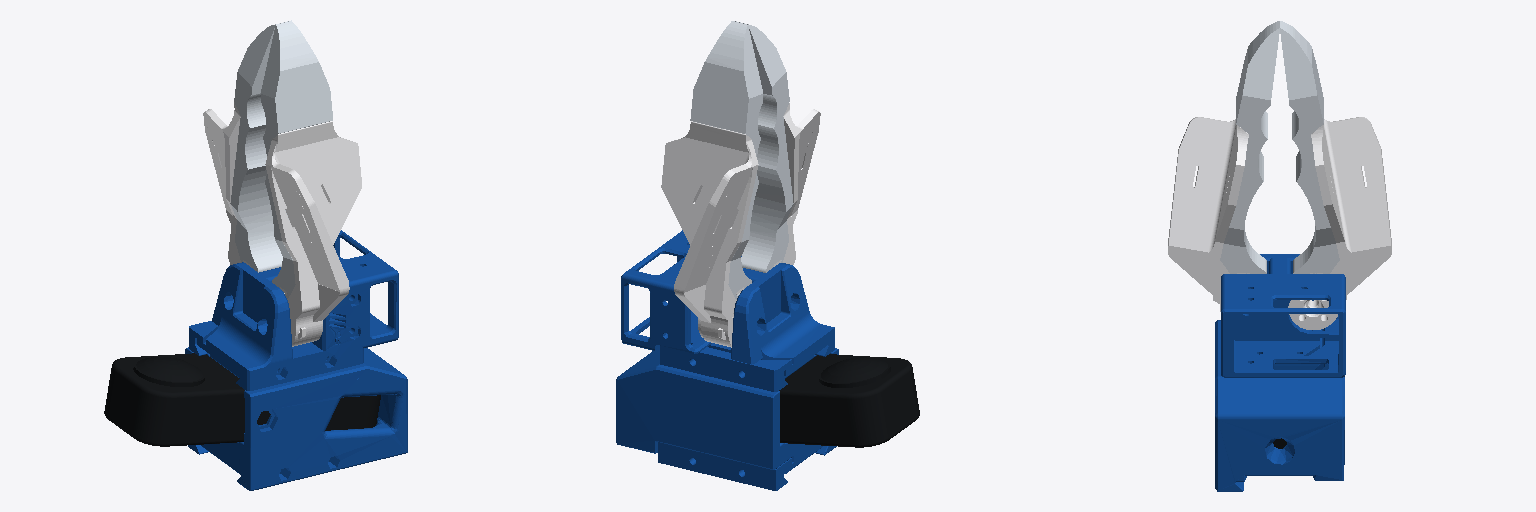
URDF robot description (pg_chopstick_iso50):
<?xml version="1.0"?>
<!-- PG Chopstick, generated by chopstick/cad/urdf.py. Units: m, rad. -->
<robot name="pg_chopstick_iso50">
  <material name="pg_blue"><color rgba="0.12 0.37 0.68 1"/></material>
  <material name="pg_white"><color rgba="0.96 0.96 0.97 1"/></material>
  <material name="tpu"><color rgba="0.87 0.9 0.93 1"/></material>
  <material name="camera"><color rgba="0.11 0.12 0.13 1"/></material>
  <link name="chopstick_flange"/>
  <link name="chopstick_base">
    <visual name="chopstick_base_sa"><origin xyz="0 0 0" rpy="0 0 0"/><geometry><mesh filename="meshes/chopstick_base_sa.stl" scale="0.001 0.001 0.001"/></geometry><material name="pg_blue"/></visual>
    <collision name="chopstick_base_sa"><origin xyz="0 0 0" rpy="0 0 0"/><geometry><mesh filename="meshes/chopstick_base_sa.stl" scale="0.001 0.001 0.001"/></geometry></collision>
    <visual name="chopstick_clip_sa"><origin xyz="0 0 0" rpy="0 0 0"/><geometry><mesh filename="meshes/chopstick_clip_sa.stl" scale="0.001 0.001 0.001"/></geometry><material name="pg_blue"/></visual>
    <collision name="chopstick_clip_sa"><origin xyz="0 0 0" rpy="0 0 0"/><geometry><mesh filename="meshes/chopstick_clip_sa.stl" scale="0.001 0.001 0.001"/></geometry></collision>
    <visual name="x5_frame"><origin xyz="0 0 0" rpy="0 0 0"/><geometry><mesh filename="meshes/x5_frame.stl" scale="0.001 0.001 0.001"/></geometry><material name="pg_blue"/></visual>
    <collision name="x5_frame"><origin xyz="0 0 0" rpy="0 0 0"/><geometry><mesh filename="meshes/x5_frame.stl" scale="0.001 0.001 0.001"/></geometry></collision>
    <visual name="x5_clip_b"><origin xyz="0 0 0" rpy="0 0 0"/><geometry><mesh filename="meshes/x5_clip_b.stl" scale="0.001 0.001 0.001"/></geometry><material name="pg_blue"/></visual>
    <collision name="x5_clip_b"><origin xyz="0 0 0" rpy="0 0 0"/><geometry><mesh filename="meshes/x5_clip_b.stl" scale="0.001 0.001 0.001"/></geometry></collision>
    <visual name="iso_flange_plate"><origin xyz="0 0 0" rpy="0 0 0"/><geometry><mesh filename="meshes/iso_flange_plate.stl" scale="0.001 0.001 0.001"/></geometry><material name="pg_blue"/></visual>
    <collision name="iso_flange_plate"><origin xyz="0 0 0" rpy="0 0 0"/><geometry><mesh filename="meshes/iso_flange_plate.stl" scale="0.001 0.001 0.001"/></geometry></collision>
    <visual name="insta360_x5_envelope"><origin xyz="0 0 0" rpy="0 0 0"/><geometry><mesh filename="meshes/insta360_x5_envelope.stl" scale="0.001 0.001 0.001"/></geometry><material name="camera"/></visual>
    <collision name="insta360_x5_envelope"><origin xyz="0 0 0" rpy="0 0 0"/><geometry><mesh filename="meshes/insta360_x5_envelope.stl" scale="0.001 0.001 0.001"/></geometry></collision>
    <visual name="servo_envelope"><origin xyz="0 0 0" rpy="0 0 0"/><geometry><mesh filename="meshes/servo_envelope.stl" scale="0.001 0.001 0.001"/></geometry><material name="camera"/></visual>
    <collision name="servo_envelope"><origin xyz="0 0 0" rpy="0 0 0"/><geometry><mesh filename="meshes/servo_envelope.stl" scale="0.001 0.001 0.001"/></geometry></collision>
    <inertial><origin xyz="0.0387194 0.000847005 -0.00378252" rpy="0 0 0"/><mass value="0.48845"/><inertia ixx="0.0006297" ixy="-1.212e-05" ixz="0.0001256" iyy="0.0008389" iyz="1.222e-05" izz="0.0004162"/></inertial>
  </link>
  <link name="chopstick_jaw_left">
    <visual name="jaw_left_sa"><origin xyz="0 0 0" rpy="0 0 0"/><geometry><mesh filename="meshes/jaw_left_sa_jawframe.stl" scale="0.001 0.001 0.001"/></geometry><material name="pg_white"/></visual>
    <collision name="jaw_left_sa"><origin xyz="0 0 0" rpy="0 0 0"/><geometry><mesh filename="meshes/jaw_left_sa_jawframe.stl" scale="0.001 0.001 0.001"/></geometry></collision>
    <visual name="tip_tpu_left"><origin xyz="0 0 0" rpy="0 0 0"/><geometry><mesh filename="meshes/tip_tpu_left_jawframe.stl" scale="0.001 0.001 0.001"/></geometry><material name="tpu"/></visual>
    <collision name="tip_tpu_left"><origin xyz="0 0 0" rpy="0 0 0"/><geometry><mesh filename="meshes/tip_tpu_left_jawframe.stl" scale="0.001 0.001 0.001"/></geometry></collision>
    <inertial><origin xyz="0.0644882 0.00198443 -0.00308682" rpy="0 0 0"/><mass value="0.049091"/><inertia ixx="6.696e-06" ixy="7.42e-06" ixz="8.384e-07" iyy="6.992e-05" iyz="-4.065e-07" izz="7.082e-05"/></inertial>
  </link>
  <link name="chopstick_tip_left"/>
  <link name="chopstick_jaw_right">
    <visual name="jaw_right"><origin xyz="0 0 0" rpy="0 0 0"/><geometry><mesh filename="meshes/jaw_right_jawframe.stl" scale="0.001 0.001 0.001"/></geometry><material name="pg_white"/></visual>
    <collision name="jaw_right"><origin xyz="0 0 0" rpy="0 0 0"/><geometry><mesh filename="meshes/jaw_right_jawframe.stl" scale="0.001 0.001 0.001"/></geometry></collision>
    <visual name="tip_tpu_right"><origin xyz="0 0 0" rpy="0 0 0"/><geometry><mesh filename="meshes/tip_tpu_right_jawframe.stl" scale="0.001 0.001 0.001"/></geometry><material name="tpu"/></visual>
    <collision name="tip_tpu_right"><origin xyz="0 0 0" rpy="0 0 0"/><geometry><mesh filename="meshes/tip_tpu_right_jawframe.stl" scale="0.001 0.001 0.001"/></geometry></collision>
    <inertial><origin xyz="0.0648709 -0.00196465 -0.00300603" rpy="0 0 0"/><mass value="0.048723"/><inertia ixx="6.645e-06" ixy="-7.43e-06" ixz="1.141e-06" iyy="6.876e-05" iyz="3.844e-07" izz="6.963e-05"/></inertial>
  </link>
  <link name="chopstick_tip_right"/>
  <link name="chopstick_camera"/>
  <link name="chopstick_tcp"/>
  <joint name="chopstick_mount_joint" type="fixed"><parent link="chopstick_flange"/><child link="chopstick_base"/><origin xyz="0 0 0.016" rpy="0 -1.57079633 0"/></joint>
  <joint name="chopstick_jaw" type="revolute">
    <parent link="chopstick_base"/><child link="chopstick_jaw_left"/>
    <origin xyz="0.06733 0.015 0" rpy="0 0 0"/><axis xyz="0 0 1"/>
    <limit lower="0.00000" upper="1.25664" effort="4" velocity="6"/>
  </joint>
  <joint name="chopstick_tip_left_joint" type="fixed"><parent link="chopstick_jaw_left"/><child link="chopstick_tip_left"/><origin xyz="0.137417 -0.015085 -0.003671" rpy="0 0 0"/></joint>
  <joint name="chopstick_jaw_right" type="revolute">
    <parent link="chopstick_base"/><child link="chopstick_jaw_right"/>
    <origin xyz="0.06733 -0.015 0" rpy="0 0 0"/><axis xyz="0 0 1"/>
    <limit lower="-1.25664" upper="0.00000" effort="4" velocity="6"/>
    <mimic joint="chopstick_jaw" multiplier="-1" offset="0"/>
  </joint>
  <joint name="chopstick_tip_right_joint" type="fixed"><parent link="chopstick_jaw_right"/><child link="chopstick_tip_right"/><origin xyz="0.137417 0.015085 -0.003671" rpy="0 0 0"/></joint>
  <joint name="chopstick_camera_joint" type="fixed"><parent link="chopstick_base"/><child link="chopstick_camera"/><origin xyz="0.034420877 0 0.057" rpy="0 0.174532726 0"/></joint>
  <joint name="chopstick_tcp_joint" type="fixed"><parent link="chopstick_base"/><child link="chopstick_tcp"/><origin xyz="0.204747 0 -0.003671" rpy="0 0 0"/></joint>
</robot>

--- What the picture shows (computed from the rendered views, not written in the file) ---
3 views of the same robot in one strip: view 1: azimuth 30°, elevation 25°; view 2: azimuth 150°, elevation 25°; view 3: azimuth 270°, elevation 25° (orthographic).
Model pg_chopstick_iso50 with 8 links and 7 joints (2 revolute, 5 fixed), rooted at chopstick_flange, posed all joints at 0.
Links seen in each view (by area): view 1: chopstick_base, chopstick_jaw_right, chopstick_jaw_left; view 2: chopstick_base, chopstick_jaw_left, chopstick_jaw_right; view 3: chopstick_base, chopstick_jaw_left, chopstick_jaw_right.
Link boxes in pixels (x1,y1,x2,y2): chopstick_base: [104, 230, 407, 490]; chopstick_jaw_right: [261, 20, 361, 346]; chopstick_jaw_left: [203, 21, 288, 272]; chopstick_base: [616, 230, 919, 490]; chopstick_jaw_left: [661, 21, 762, 347]; chopstick_jaw_right: [735, 21, 820, 272]; chopstick_base: [1215, 254, 1345, 491]; chopstick_jaw_left: [1280, 21, 1391, 329]; chopstick_jaw_right: [1168, 21, 1279, 311].
Bounding box of the posed robot: 0.1302 × 0.1008 × 0.2095 m (x, y, z).
9 mesh visuals loaded from 11 distinct referenced files (9 binary STL); not drawn: 2 (reference not matched to a file when rendering).
